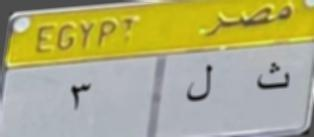3: (66, 80, 92, 117)
laam: (183, 60, 219, 108)
thaa: (251, 58, 294, 95)
